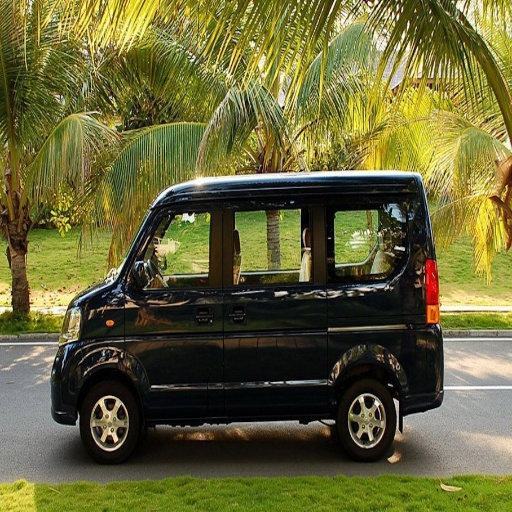trunk: (305, 293, 419, 401)
